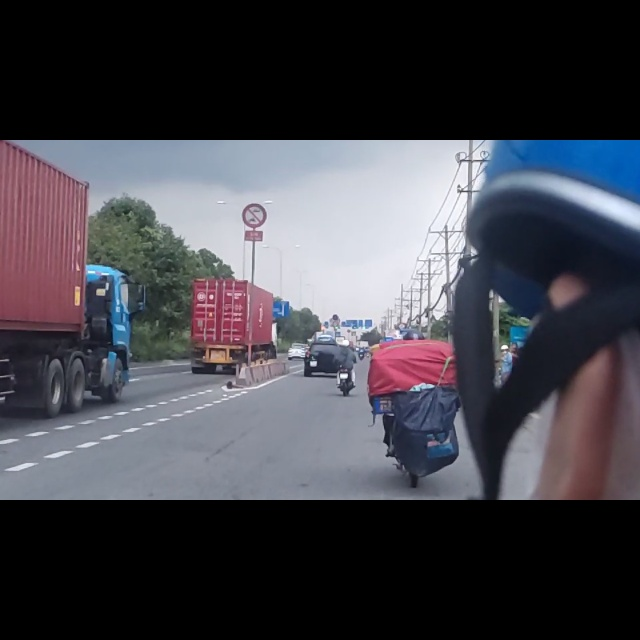bien_cam: (243, 113, 267, 156)
